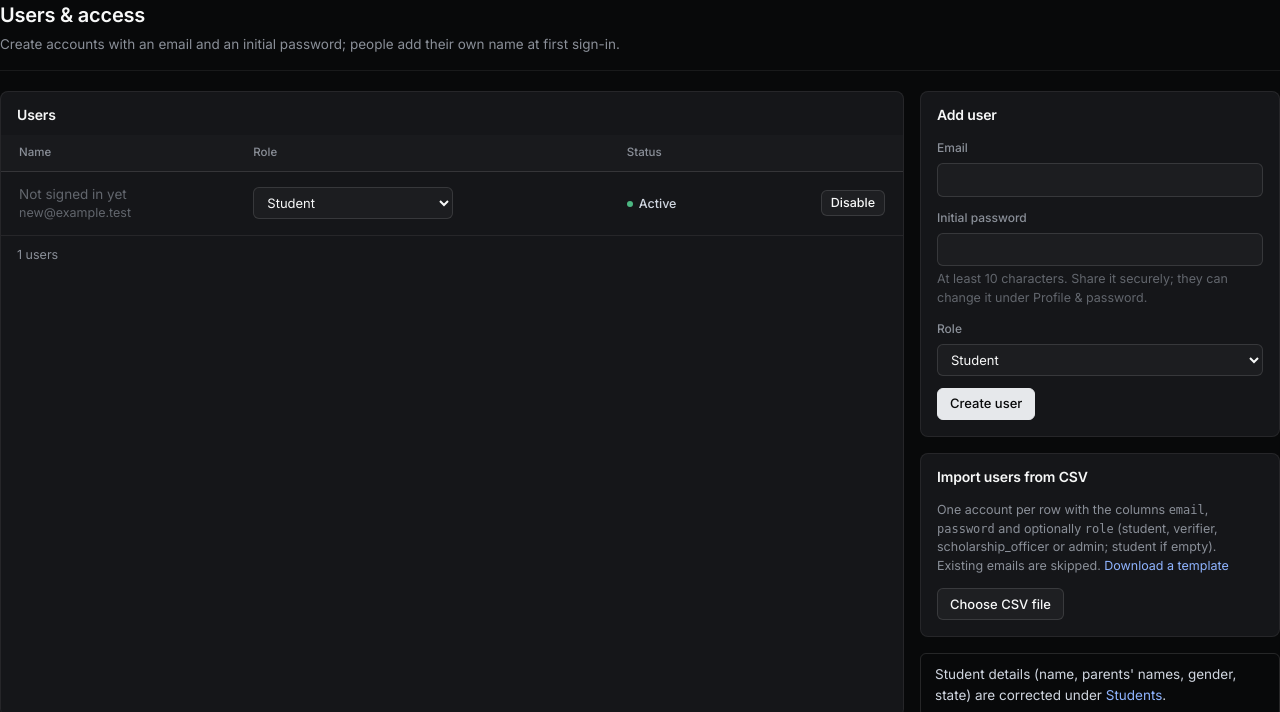
it: admin: users › creates an account from an email and an initial password only
expect the text "Not signed in yet" is shown: met, box [19,186,127,202]
Type "kavya@example.test" into the field labelled "Email".
click(1100, 180); type("kavya@example.test")  # box [937,163,1263,197]
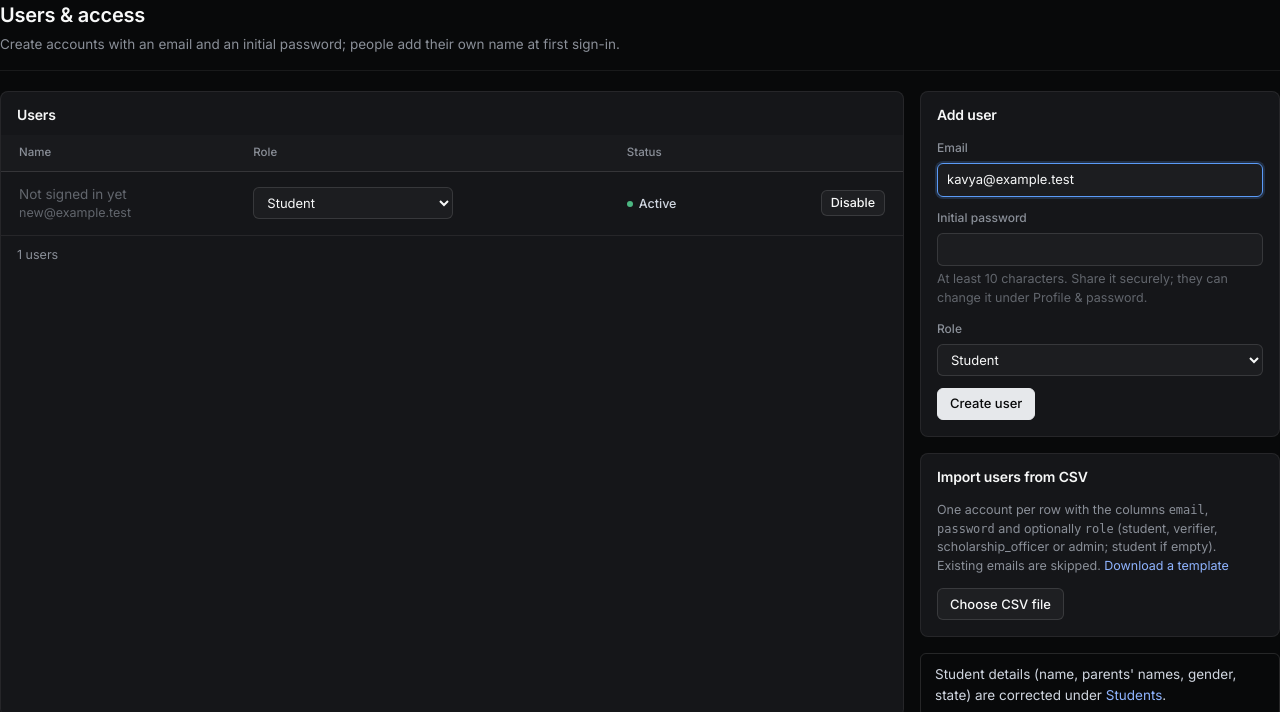
Type "Initial#Pass2026" into the password field labelled "Initial password".
click(1100, 250); type("Initial#Pass2026")  # box [937,233,1263,266]
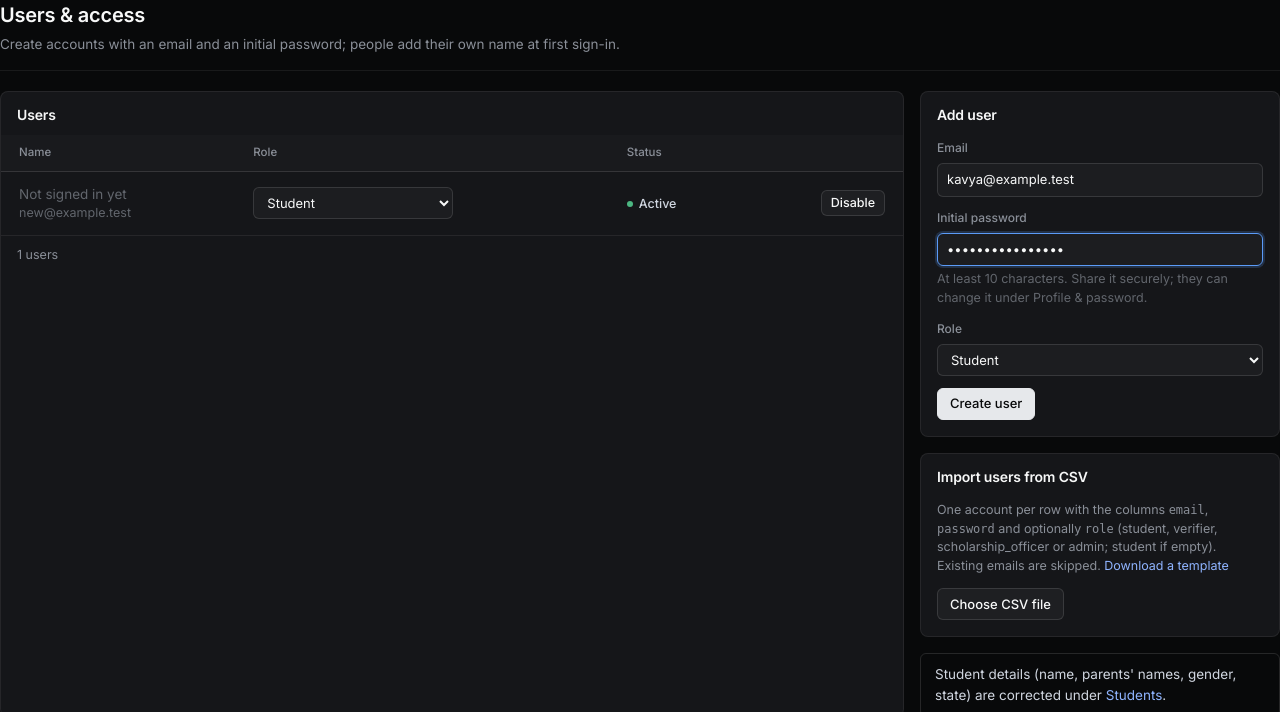
Click the button "Create user".
click(986, 404)  # box [937,388,1035,420]
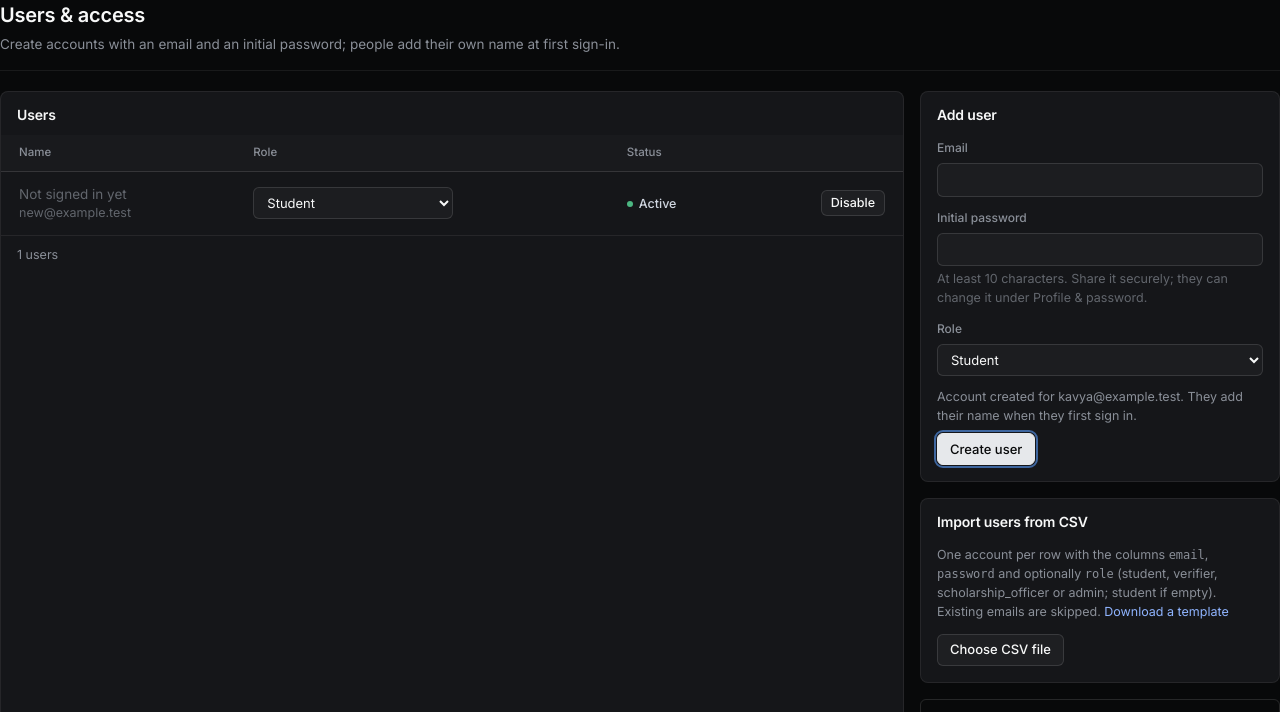
expect the text "They add their name when they first sign in" is shown: met, box [937,389,1243,423]
